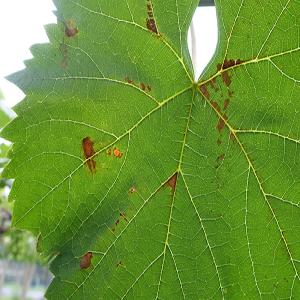Folha: (1, 0, 299, 299)
Fungo: (198, 56, 242, 169), (81, 135, 124, 174), (52, 9, 78, 37), (81, 136, 97, 173), (123, 76, 152, 94), (216, 98, 230, 134), (108, 212, 128, 236), (216, 62, 232, 87), (145, 2, 157, 34), (127, 186, 145, 202), (64, 18, 78, 38), (216, 112, 228, 132), (80, 251, 92, 270), (107, 146, 124, 158), (221, 70, 232, 87), (200, 83, 210, 100), (60, 48, 68, 68), (210, 99, 221, 113), (209, 77, 219, 92), (139, 82, 151, 94), (109, 219, 120, 232), (223, 58, 235, 68), (146, 3, 154, 18), (123, 76, 135, 85), (108, 226, 117, 238), (119, 212, 129, 222), (222, 98, 230, 110), (113, 147, 121, 158), (192, 80, 199, 91), (60, 58, 67, 68), (128, 186, 136, 194), (139, 82, 145, 92), (216, 62, 222, 72), (115, 260, 122, 268), (227, 87, 233, 96), (216, 138, 222, 146), (146, 85, 152, 92), (235, 58, 241, 64), (230, 132, 234, 141), (107, 148, 111, 155), (115, 219, 119, 226), (203, 100, 207, 107), (214, 164, 219, 169), (109, 228, 115, 232), (221, 153, 225, 159), (124, 76, 128, 82), (216, 155, 220, 161)
